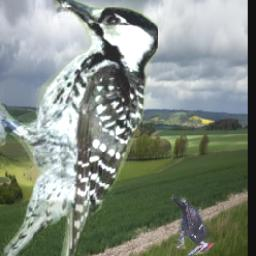Woodpecker: (0, 0, 158, 256), (170, 195, 214, 256)
